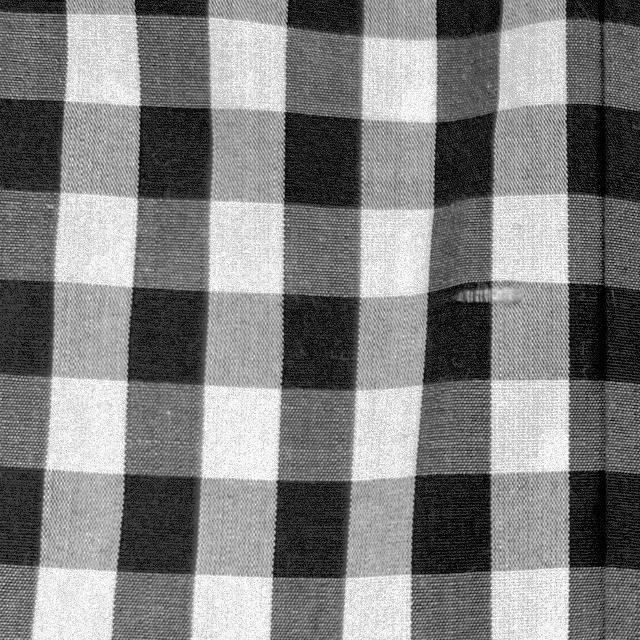Foreign_yarn: (442, 272, 554, 314)
